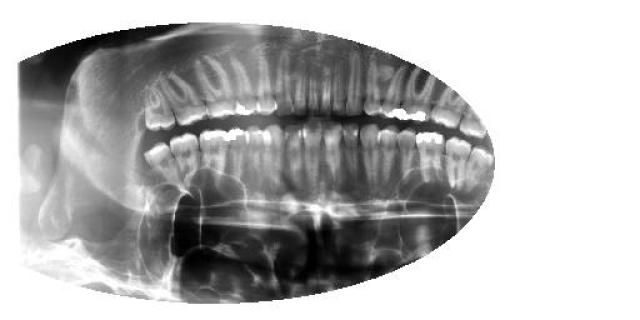Fillings: (398, 68, 437, 122), (198, 128, 232, 188), (228, 51, 258, 118), (415, 131, 445, 185), (379, 62, 406, 121), (225, 126, 247, 184)
